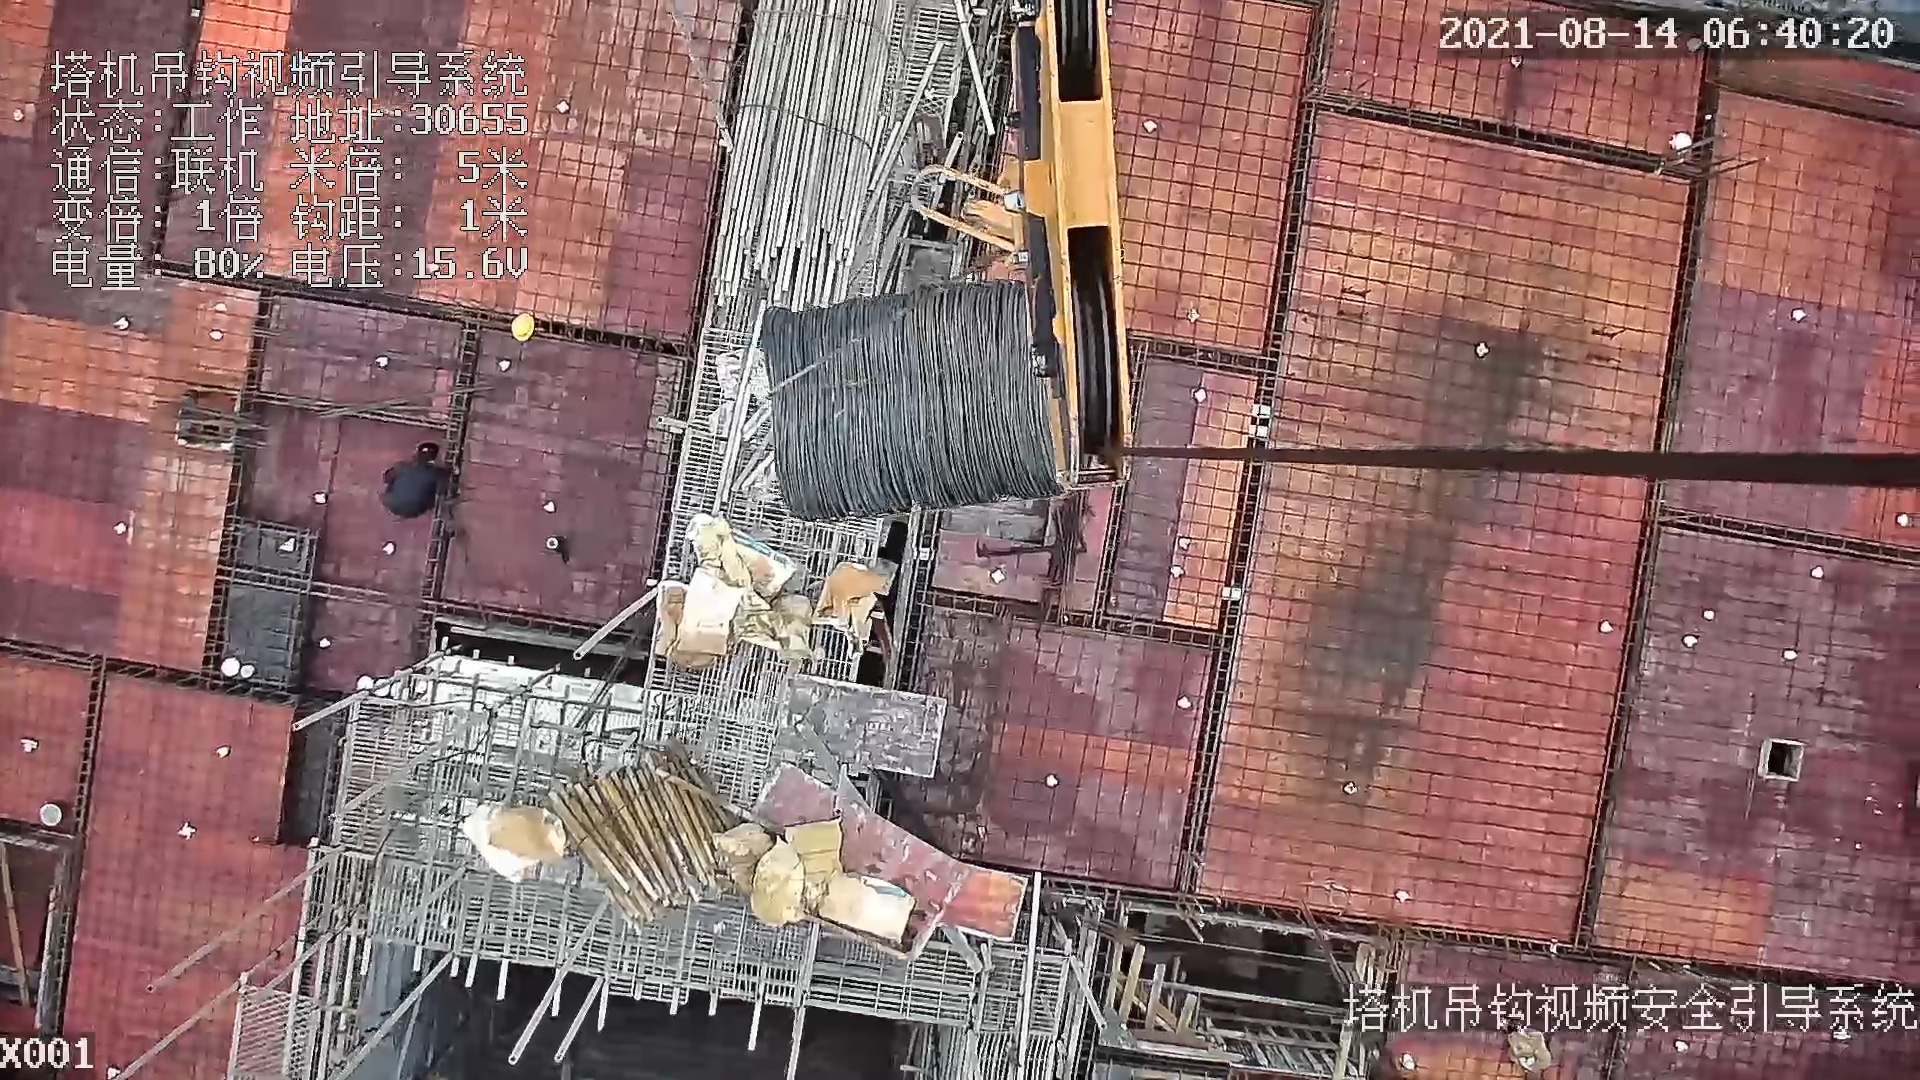helmet: (508, 313, 544, 342)
hook: (908, 1, 1149, 486)
person: (369, 441, 454, 518)
scaffold: (559, 742, 738, 923)
